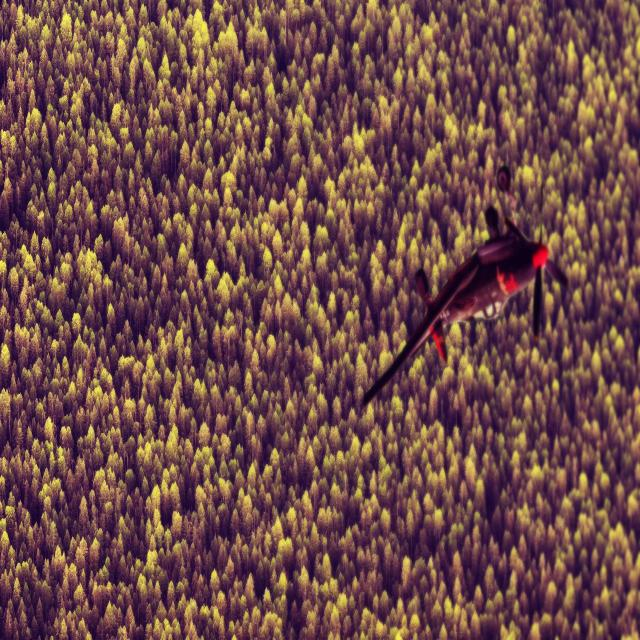airplane: (359, 164, 567, 411)
